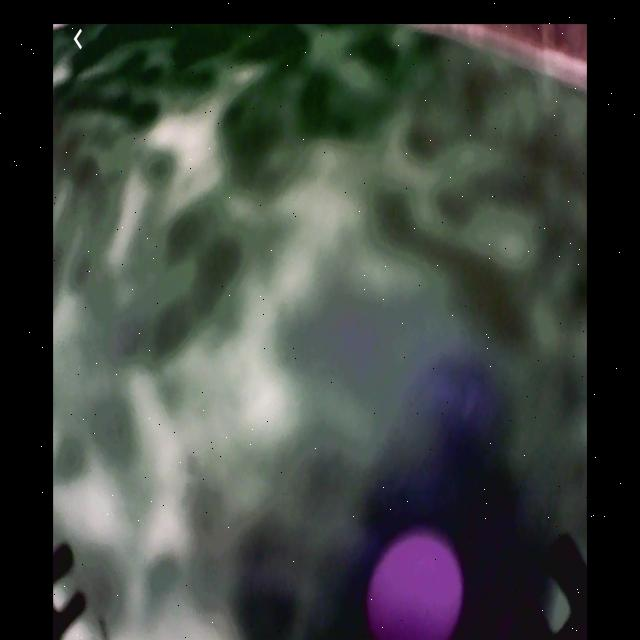ball: (369, 533, 464, 640)
